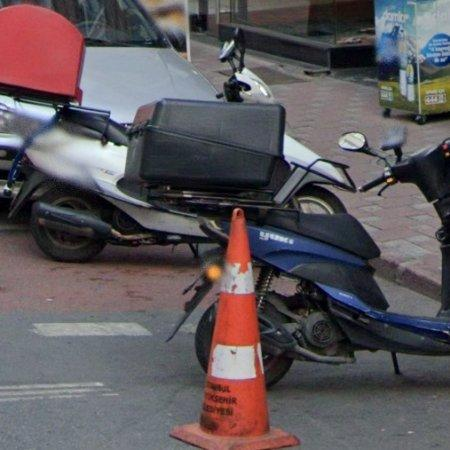motorcycles: (127, 99, 450, 387), (9, 105, 357, 262), (219, 34, 280, 105)
